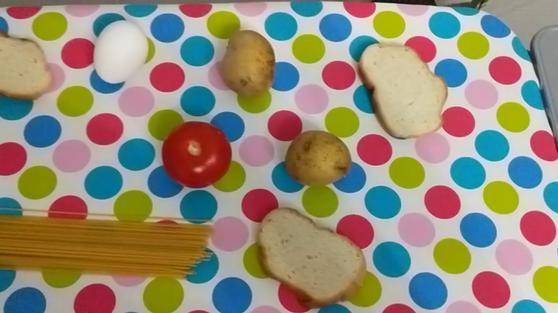egg: (87, 17, 152, 86)
potato: (278, 128, 353, 190), (214, 28, 278, 98)
spaghetti: (1, 210, 224, 281)
tomato: (153, 118, 241, 196)
white_bread: (251, 203, 374, 309), (354, 38, 454, 143), (1, 28, 53, 102)
